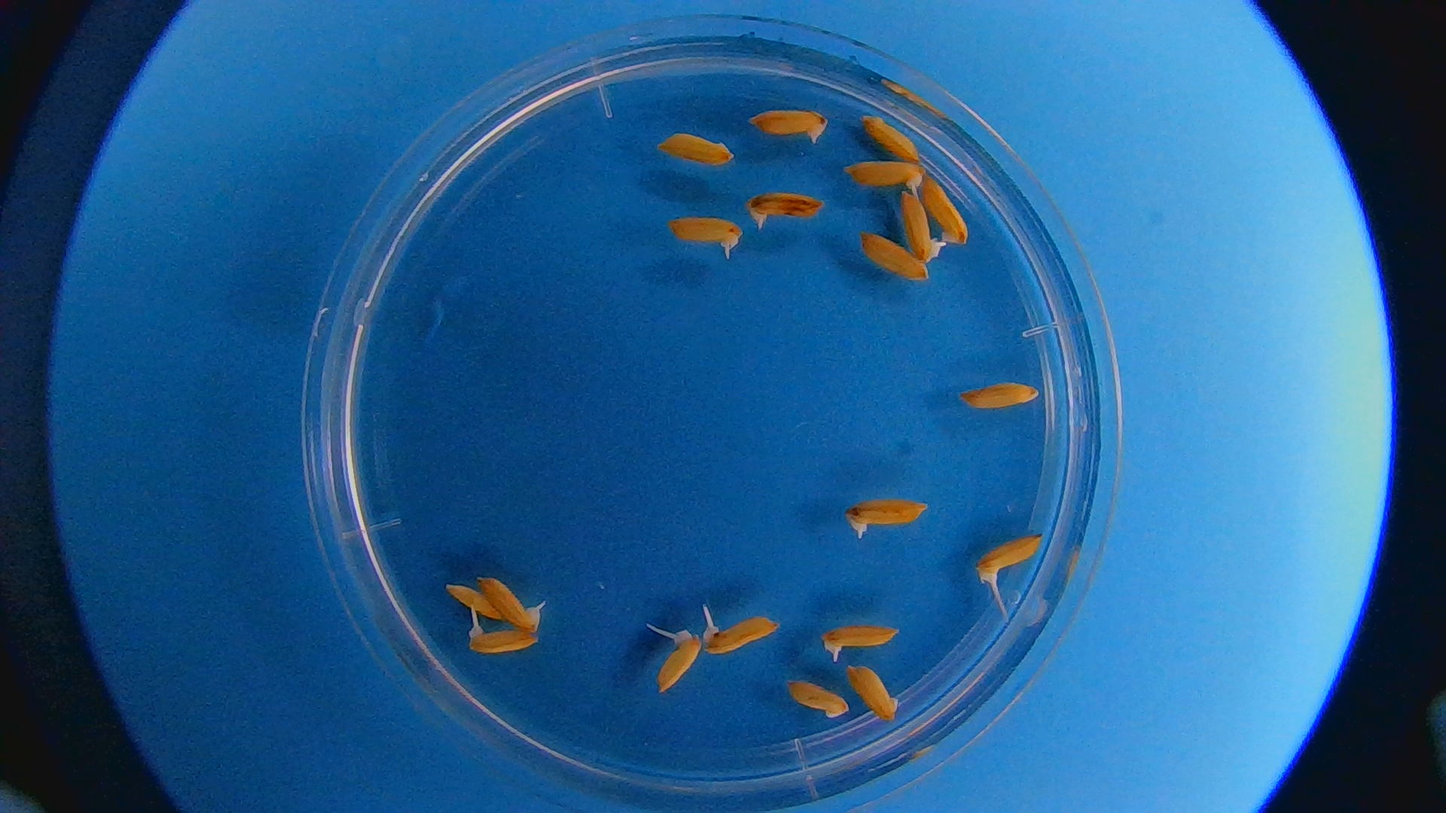no: (844, 659, 905, 726), (783, 671, 853, 728), (744, 105, 826, 145), (856, 113, 919, 165), (857, 234, 928, 279), (923, 177, 969, 245), (657, 129, 730, 168), (959, 383, 1042, 416), (445, 580, 512, 620)
yes: (972, 535, 1043, 583), (847, 498, 929, 539), (484, 574, 541, 630), (843, 160, 929, 196), (704, 615, 776, 657), (660, 626, 705, 693), (901, 190, 942, 263), (665, 216, 742, 254), (816, 623, 901, 657), (467, 623, 545, 659), (746, 190, 824, 226)
